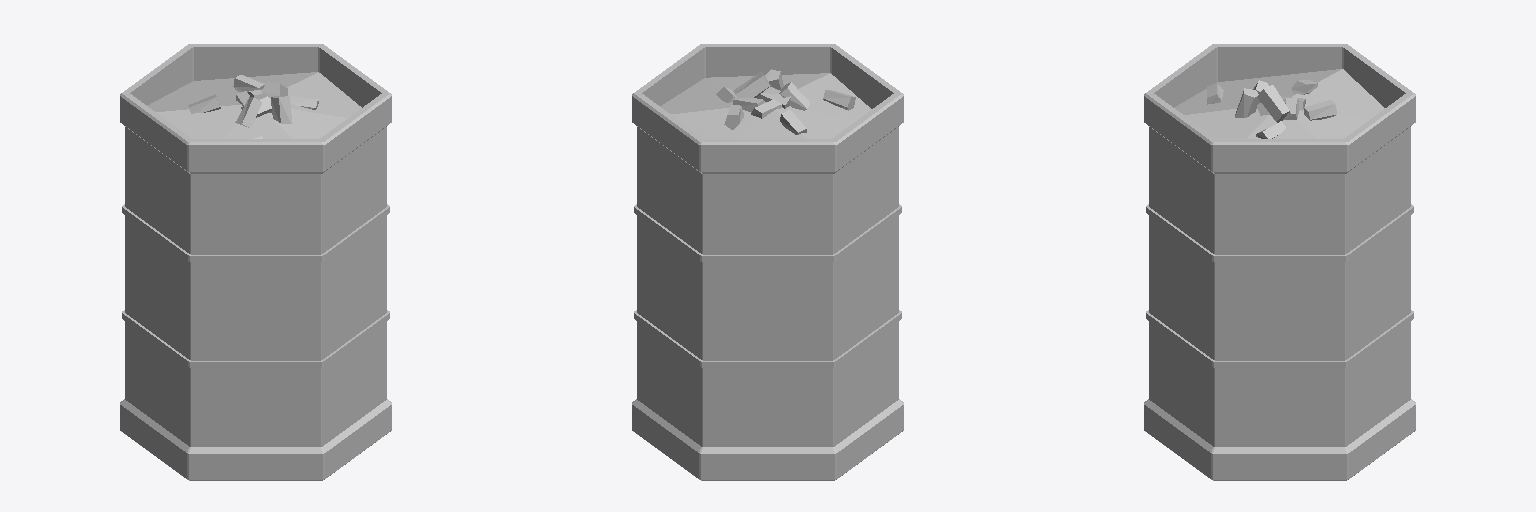
The model's file is Drum2_Low.obj.
The picture shows the model from 3 angles: view 1: azimuth 30°, elevation 25°; view 2: azimuth 150°, elevation 25°; view 3: azimuth 270°, elevation 25°; orthographic projection.
Parts seen in each view (by area): view 1: Low; view 2: Low; view 3: Low.
Part boxes in pixels (x1,y1,x2,y2): Low: (120, 44, 391, 480); Low: (632, 44, 903, 480); Low: (1144, 44, 1415, 480).
Size of the model in its own units: 3.44 by 5.61 by 3.95.